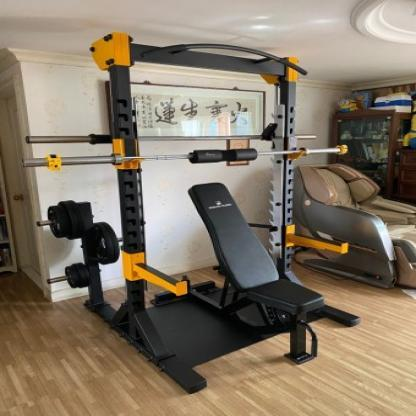smith machine: (26, 31, 348, 396)
